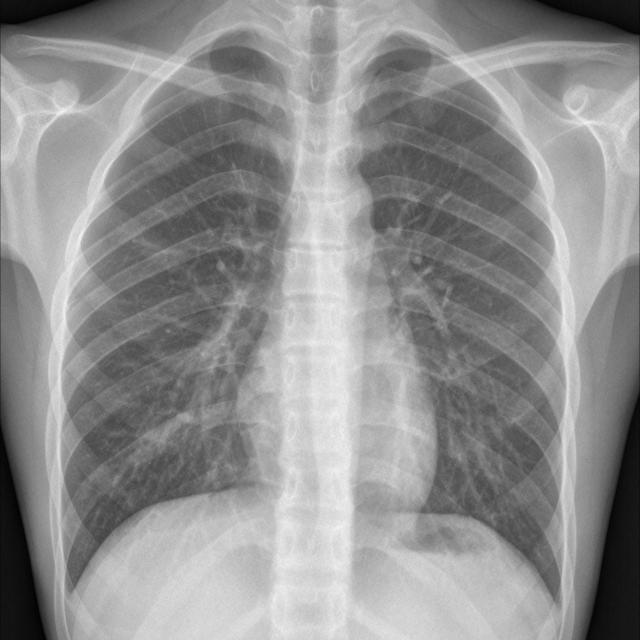no-pneumonia: (64, 33, 289, 584), (358, 46, 565, 600)
